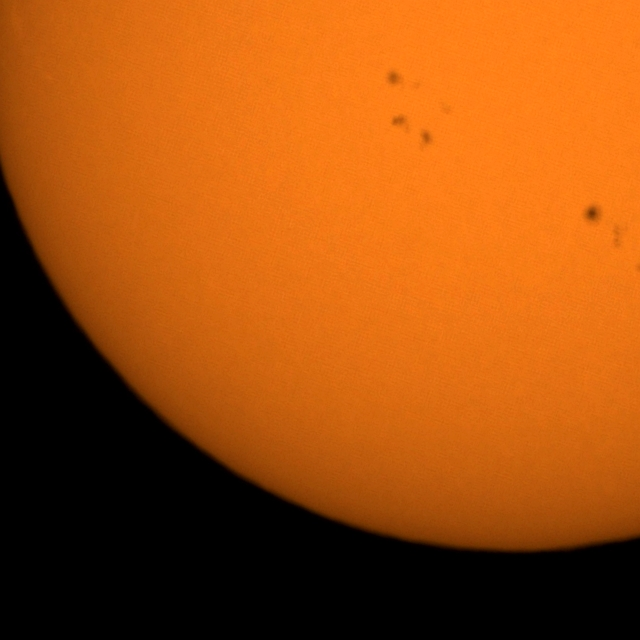sunspot: (385, 69, 421, 92), (582, 204, 604, 226), (390, 113, 411, 133), (418, 128, 436, 149)
